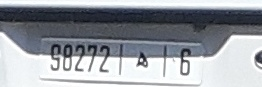2: (72, 41, 88, 72), (99, 46, 115, 74)
6: (178, 46, 194, 79)
7: (88, 43, 100, 71)
8: (61, 42, 76, 72)
9: (49, 42, 61, 73)
h: (132, 48, 153, 72)
